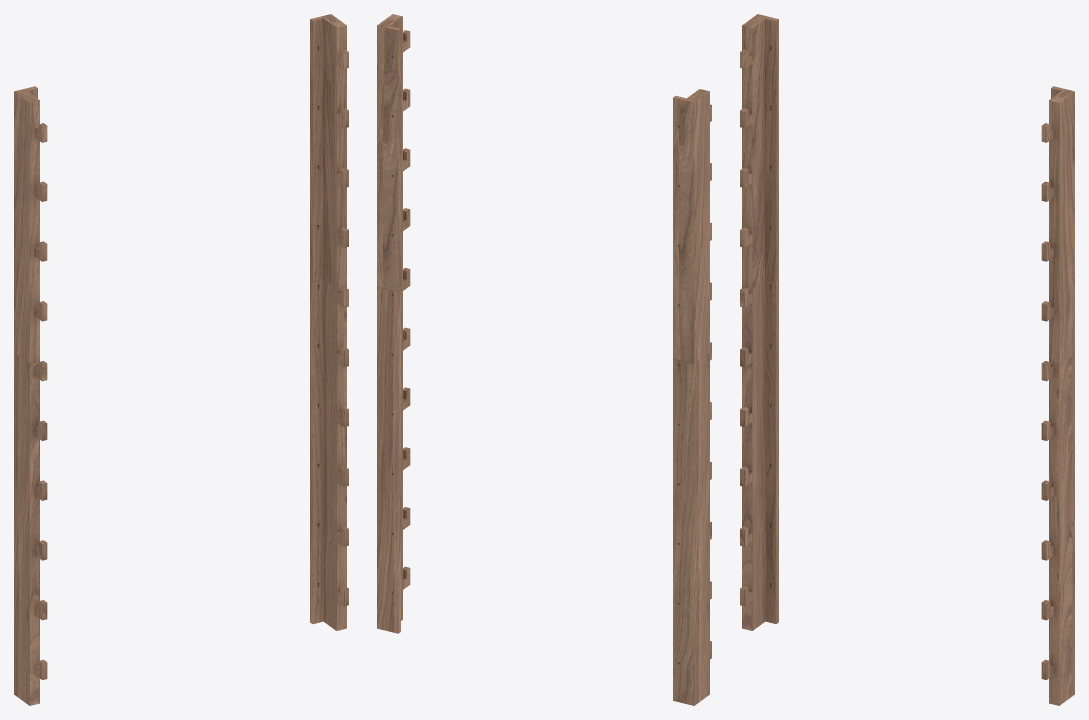
The model's file is unit_frame.glb.
3 views of the same model, side by side, from view 1: azimuth 30°, elevation 25°; view 2: azimuth 150°, elevation 25°; view 3: azimuth 330°, elevation 25° (orthographic).
Visible parts, largest first — view 1: m_frame_r, m_frame_l; view 2: m_frame_l, m_frame_r; view 3: m_frame_l, m_frame_r.
Boxes of the visible parts, x1=… form: m_frame_r: x1=310, y1=14, x2=348, y2=630; m_frame_l: x1=14, y1=86, x2=47, y2=705; m_frame_l: x1=673, y1=89, x2=711, y2=705; m_frame_r: x1=377, y1=14, x2=410, y2=633; m_frame_l: x1=740, y1=14, x2=778, y2=630; m_frame_r: x1=1041, y1=86, x2=1074, y2=705.
Size of the model in its own units: 0.9571 by 1.74 by 0.1198.
1 material, 1 textured.
